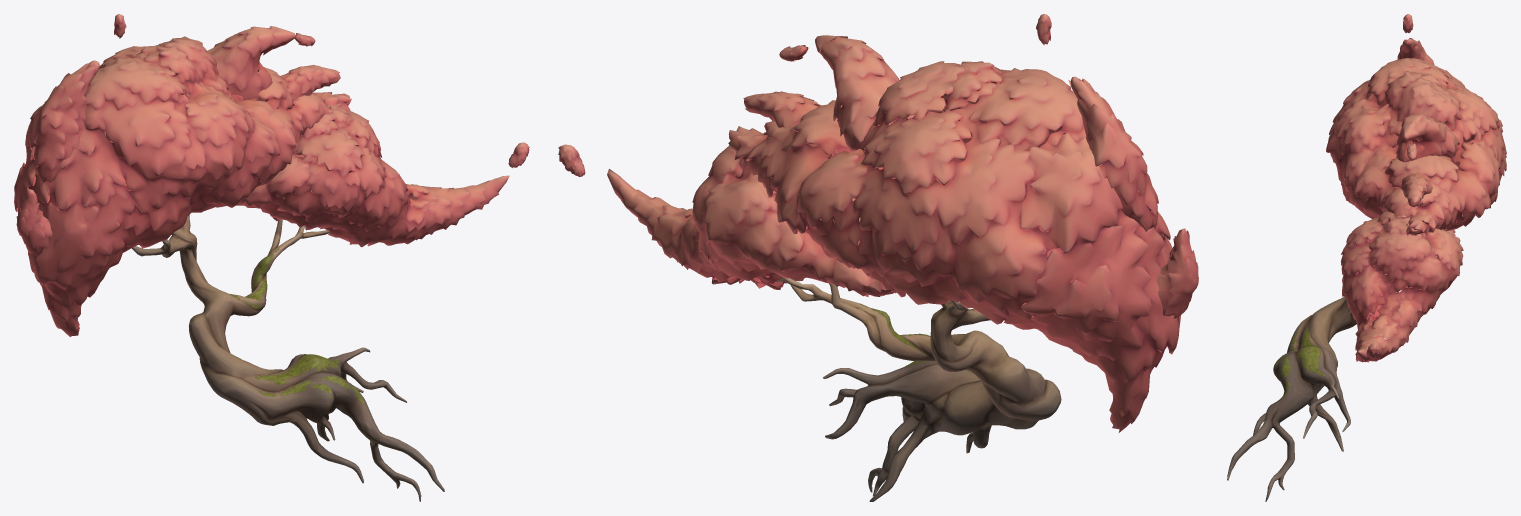
The model's file is sky_tree_01c.glb.
The picture shows the model from 3 angles, left to right: view 1: azimuth 30°, elevation 25°; view 2: azimuth 150°, elevation 25°; view 3: azimuth 270°, elevation 25°; orthographic projection. The views are drawn at different scales.
Visible parts, largest first — view 1: tree_01c; view 2: tree_01c; view 3: tree_01c.
Part boxes in pixels (x1,y1,x2,y2): tree_01c: (14, 14, 529, 501); tree_01c: (558, 14, 1198, 501); tree_01c: (1227, 14, 1506, 501).
Size of the model in its own units: 56.23 by 51.61 by 32.75.
Materials: 2 (2 with a texture image).
